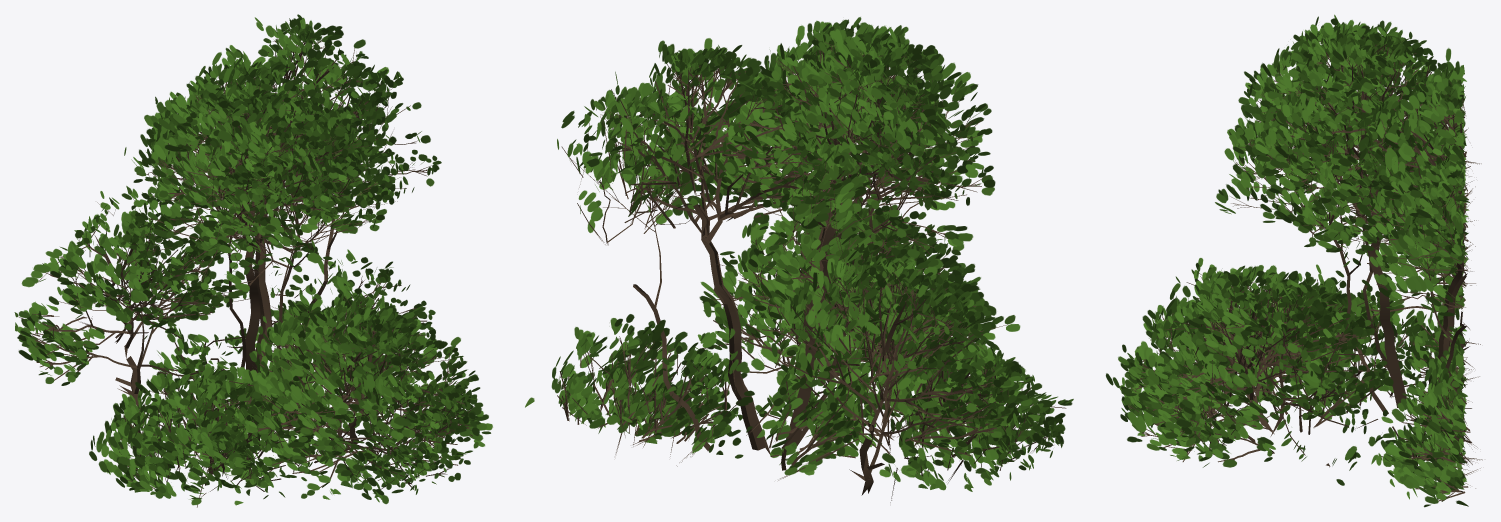
The picture shows the model from 3 angles, left to right: view 1: azimuth 30°, elevation 25°; view 2: azimuth 150°, elevation 25°; view 3: azimuth 270°, elevation 25°; orthographic projection. The views are drawn at different scales.
Parts seen in each view (by area): view 1: oak 01.001_trunk_Mat.001_0.413; view 2: oak 01.001_trunk_Mat.001_0.413; view 3: oak 01.001_trunk_Mat.001_0.413.
Part boxes in pixels (x1=…): oak 01.001_trunk_Mat.001_0.413: x1=14, y1=14, x2=492, y2=507; oak 01.001_trunk_Mat.001_0.413: x1=525, y1=17, x2=1073, y2=502; oak 01.001_trunk_Mat.001_0.413: x1=1106, y1=14, x2=1482, y2=507.
Bounding box in the file's own units: 3.81 × 3.37 × 2.92.
2 materials, 1 textured.
